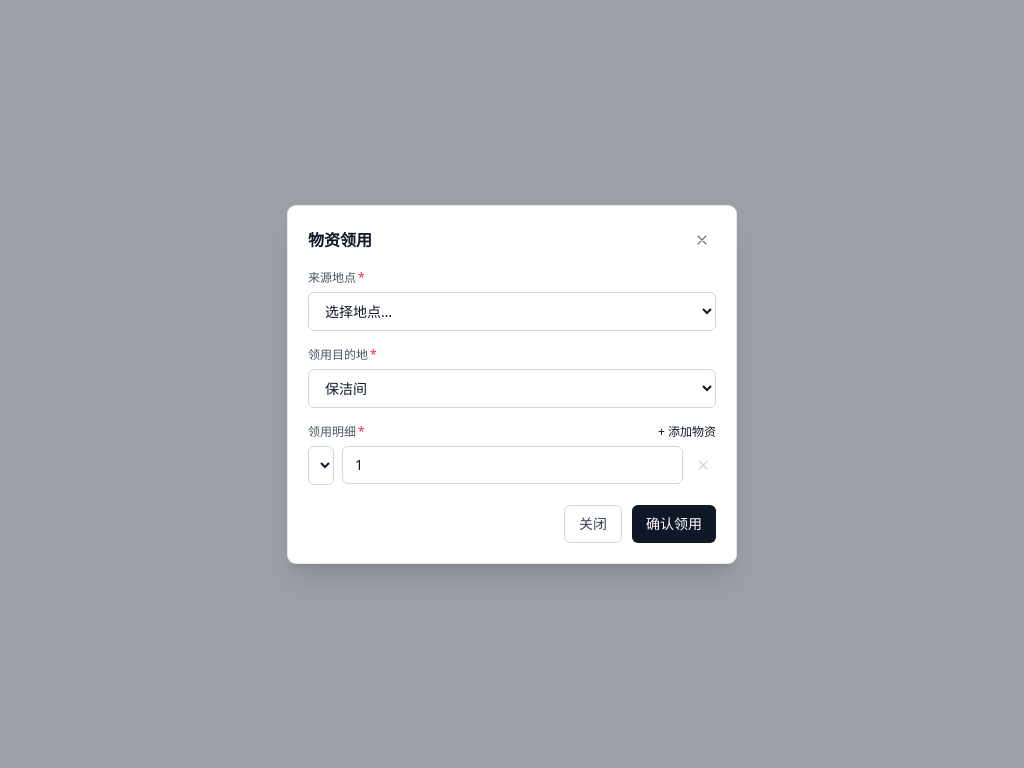
Test: IssueForm 领用表单（Sprint 7 §11/§12/§54） › 未选物资 → 校验错误
The image size is (1024, 768).
Step 1. Select "总仓" in the dropdown named "领用来源地点" → (512, 311), box [308, 292, 716, 330]
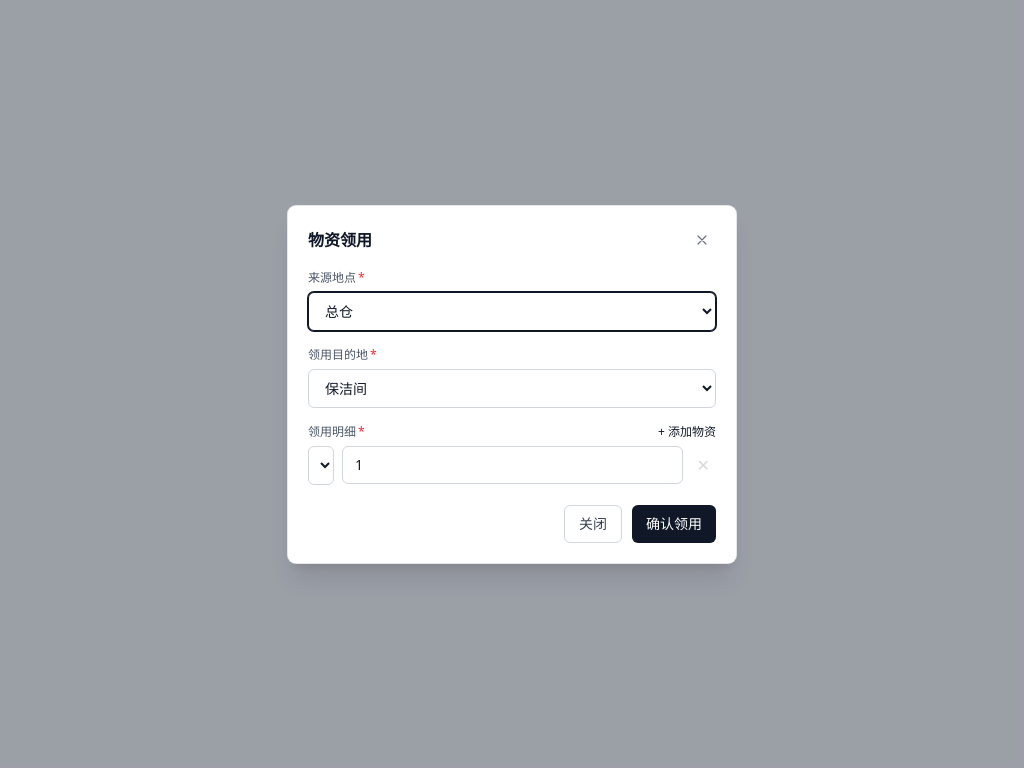
Step 2. Click the button "确认领用" → (674, 524), box [632, 504, 716, 542]
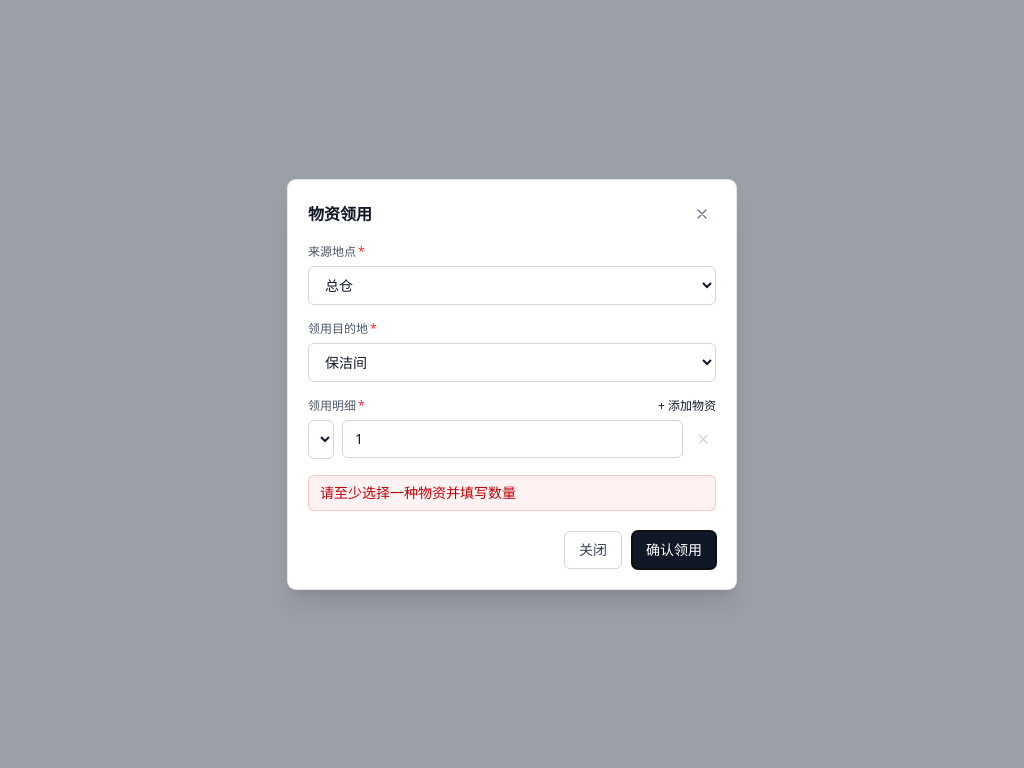
Check: the message reads "请至少选择一种物资并填写数量", box [320, 482, 516, 502]
